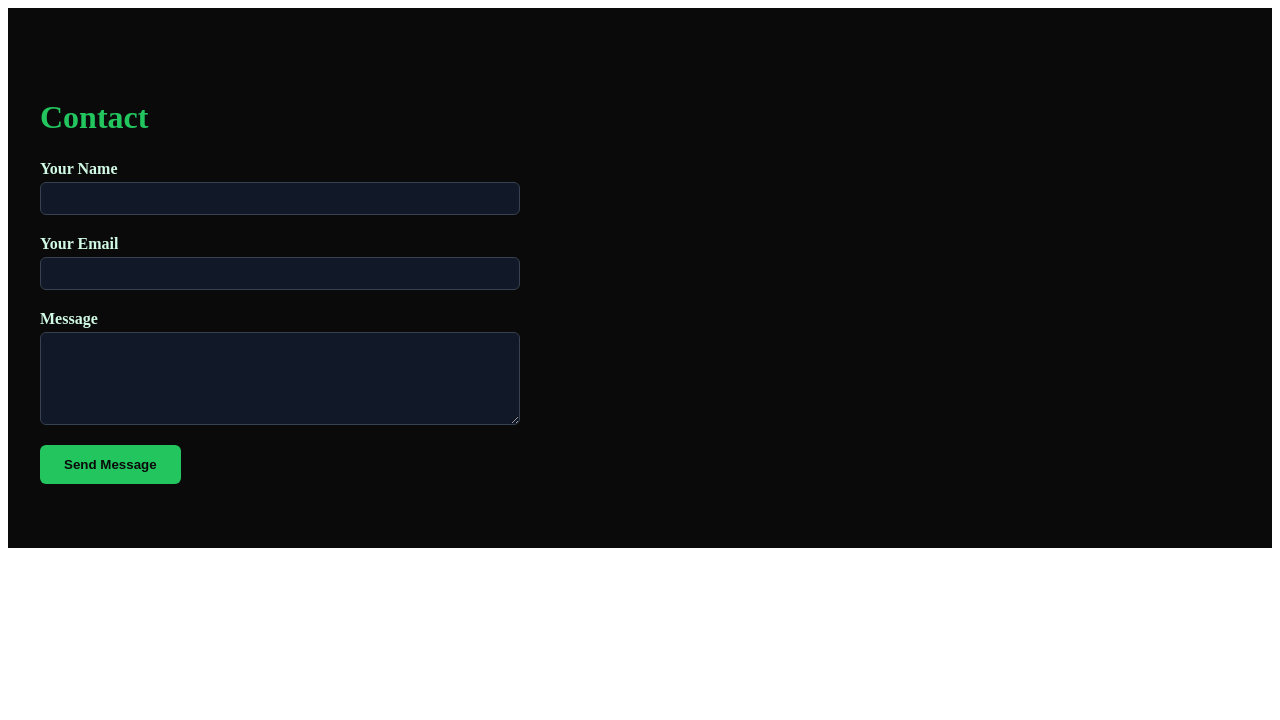
Test case: ContactSection › shows validation error when email is invalid
The image size is (1280, 720).
Step 1. Type "Izrael" into the field labelled "Your Name" → {"x": 280, "y": 198}, box [40,182,520,214]
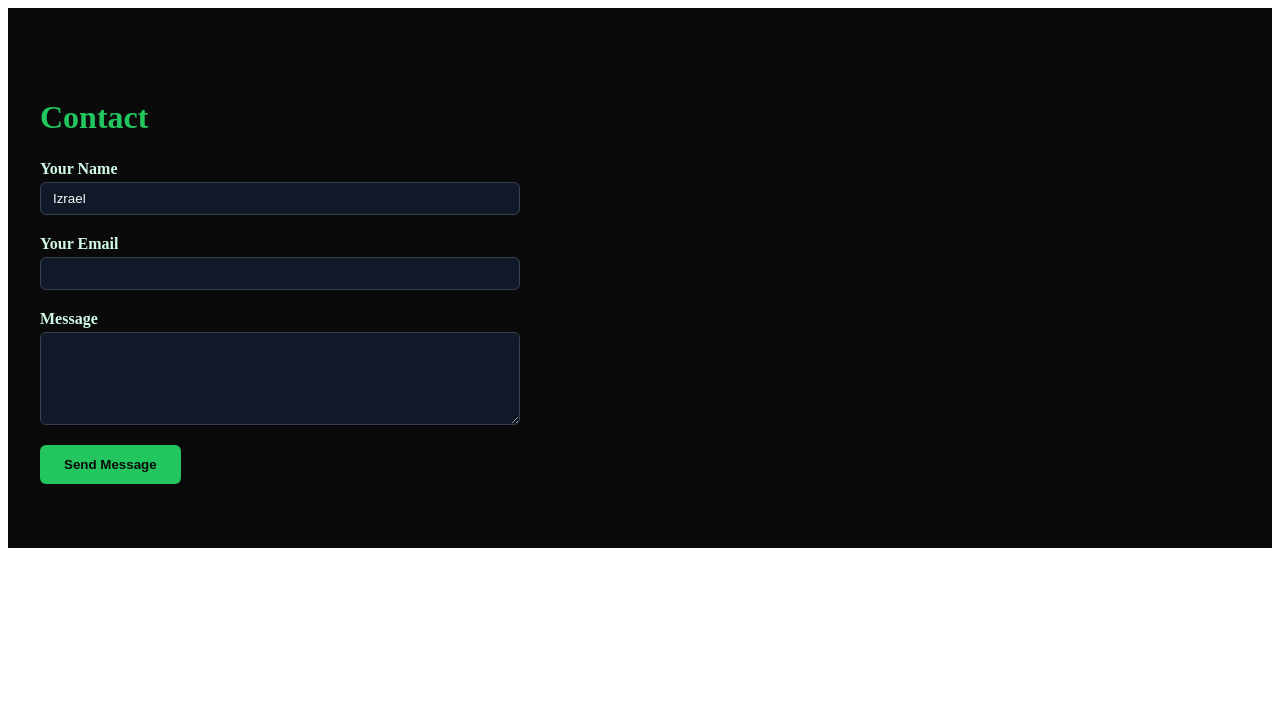
Step 2. Type "not-an-email" into the field labelled "Your Email" → {"x": 280, "y": 273}, box [40,256,520,290]
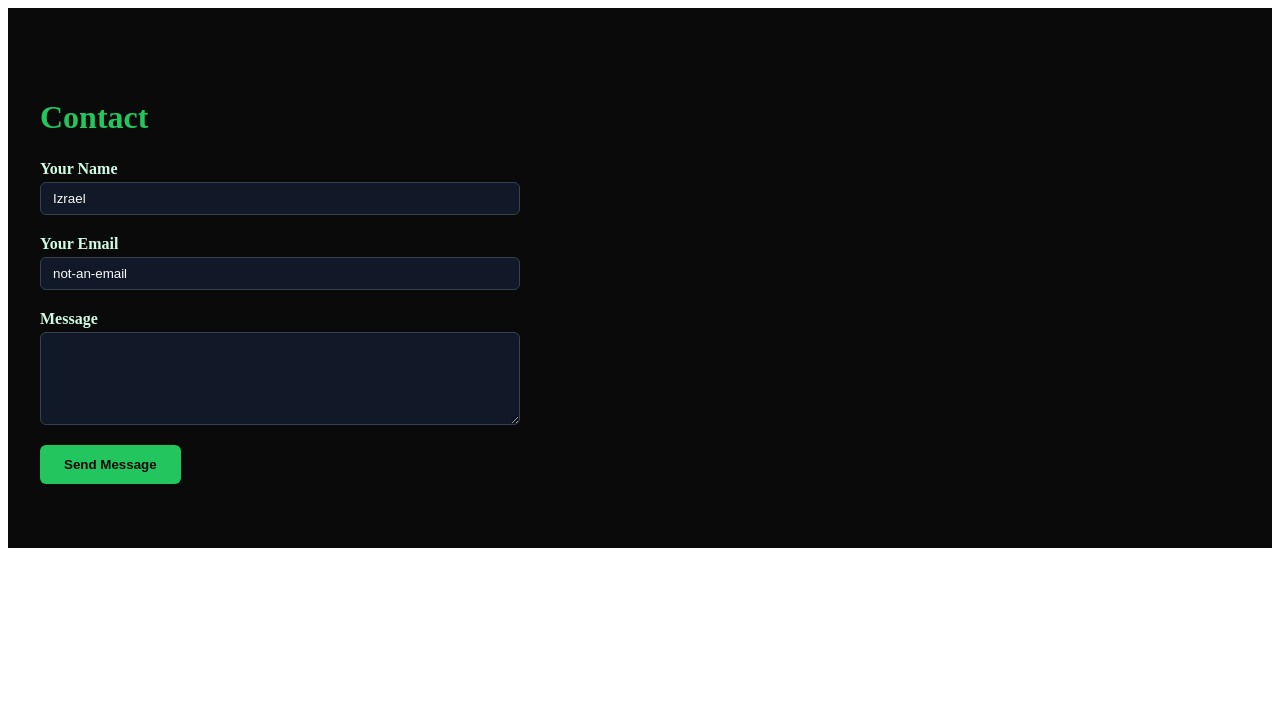
Step 3. Type "Hello" into the text box labelled "Message" → {"x": 280, "y": 378}, box [40,332,520,424]
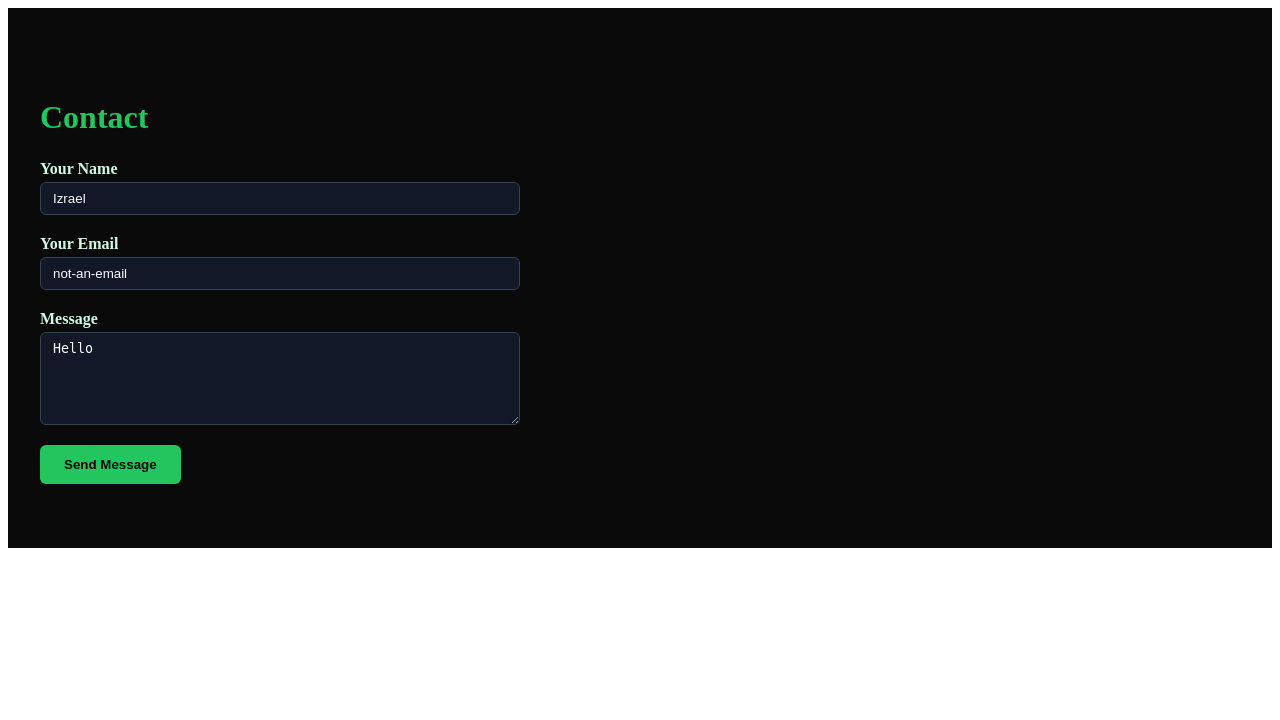
Step 4. Click the button "Send Message" → {"x": 110, "y": 464}, box [40,444,181,484]
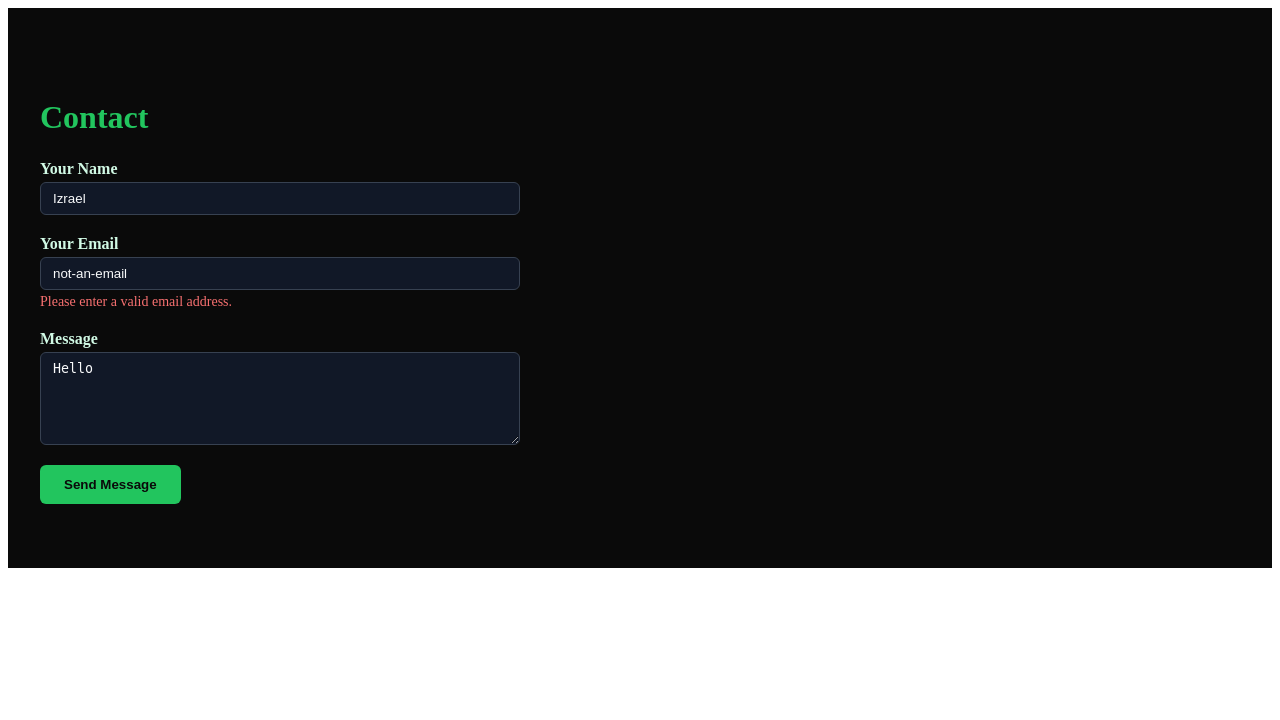
Check: the text "Please enter a valid email address." is shown, box [40,294,232,308]
